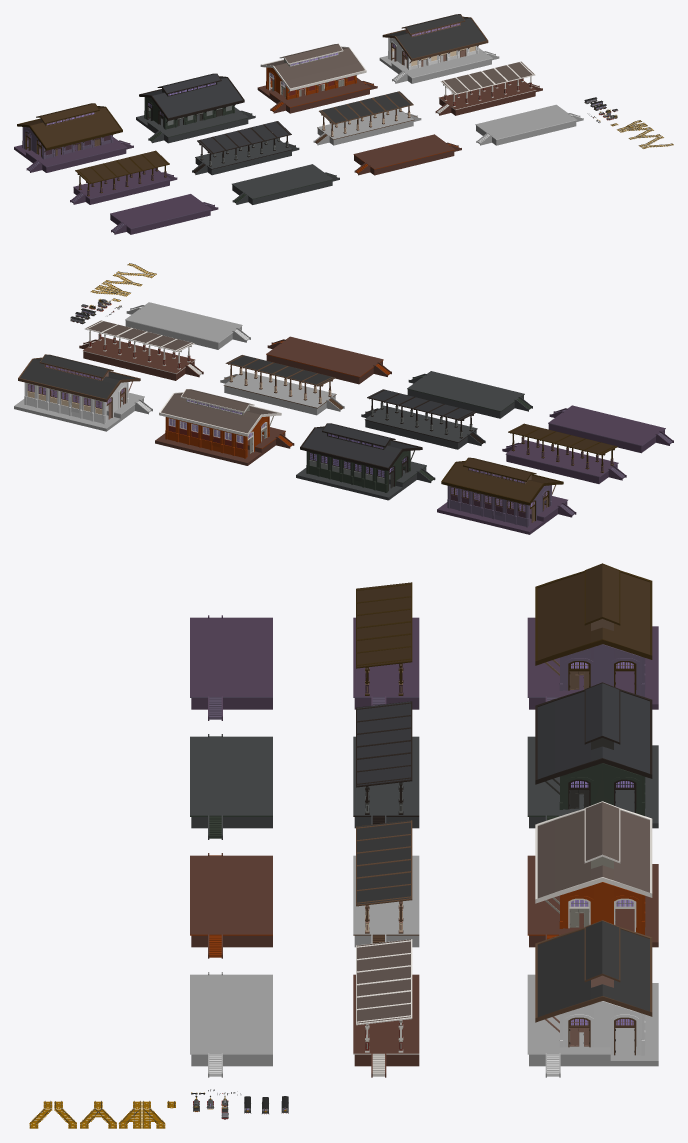
Rendered from steam-trains-and-stations-low-poly.glb.
3 renders of one model, top to bottom at view 1: azimuth 30°, elevation 25°; view 2: azimuth 150°, elevation 25°; view 3: azimuth 270°, elevation 25°, orthographic. The views are drawn at different scales.
Parts seen in each view (by area): view 1: RailwayStation_CS04, RailwayStation_CS03, RailwayStation_CS02, RailwayStation_CS01, RailwayPlatformCanopy_CS01, RailwayPlatformCanopy_CS04, RailwayPlatformCanopy_CS03, RailwayPlatformCanopy_CS02, RailwayPlatform_CS03, RailwayPlatform_CS02, RailwayPlatform_CS04, RailwayPlatform_CS01; view 2: RailwayStation_CS01, RailwayStation_CS02, RailwayStation_CS03, RailwayStation_CS04, RailwayPlatformCanopy_CS02, RailwayPlatformCanopy_CS03, RailwayPlatformCanopy_CS04, RailwayPlatformCanopy_CS01, RailwayPlatform_CS02, RailwayPlatform_CS03, RailwayPlatform_CS04, RailwayPlatform_CS01; view 3: RailwayStation_CS01, RailwayStation_CS02, RailwayStation_CS04, RailwayStation_CS03, RailwayPlatformCanopy_CS02, RailwayPlatform_CS01, RailwayPlatform_CS02, RailwayPlatform_CS03, RailwayPlatform_CS04, RailwayPlatformCanopy_CS04, RailwayPlatformCanopy_CS03, RailwayPlatformCanopy_CS01.
Part boxes in pixels (x1=…): RailwayStation_CS04: x1=14, y1=103, x2=133, y2=172; RailwayStation_CS03: x1=136, y1=73, x2=255, y2=143; RailwayStation_CS02: x1=257, y1=43, x2=377, y2=113; RailwayStation_CS01: x1=379, y1=14, x2=499, y2=83; RailwayPlatformCanopy_CS01: x1=313, y1=91, x2=421, y2=145; RailwayPlatformCanopy_CS04: x1=70, y1=150, x2=177, y2=204; RailwayPlatformCanopy_CS03: x1=192, y1=121, x2=299, y2=175; RailwayPlatformCanopy_CS02: x1=435, y1=61, x2=542, y2=115; RailwayPlatform_CS03: x1=232, y1=164, x2=339, y2=204; RailwayPlatform_CS02: x1=353, y1=134, x2=461, y2=175; RailwayPlatform_CS04: x1=110, y1=194, x2=218, y2=234; RailwayPlatform_CS01: x1=475, y1=104, x2=583, y2=145; RailwayStation_CS01: x1=14, y1=354, x2=152, y2=431; RailwayStation_CS02: x1=155, y1=389, x2=294, y2=465; RailwayStation_CS03: x1=296, y1=423, x2=435, y2=500; RailwayStation_CS04: x1=437, y1=457, x2=576, y2=534; RailwayPlatformCanopy_CS02: x1=79, y1=320, x2=203, y2=380; RailwayPlatformCanopy_CS03: x1=361, y1=389, x2=485, y2=449; RailwayPlatformCanopy_CS04: x1=502, y1=423, x2=626, y2=483; RailwayPlatformCanopy_CS01: x1=220, y1=355, x2=344, y2=415; RailwayPlatform_CS02: x1=266, y1=336, x2=391, y2=384; RailwayPlatform_CS03: x1=407, y1=371, x2=532, y2=418; RailwayPlatform_CS04: x1=548, y1=405, x2=673, y2=453; RailwayPlatform_CS01: x1=125, y1=302, x2=250, y2=349; RailwayStation_CS01: x1=527, y1=920, x2=658, y2=1077; RailwayStation_CS02: x1=527, y1=801, x2=658, y2=947; RailwayStation_CS04: x1=527, y1=563, x2=658, y2=709; RailwayStation_CS03: x1=527, y1=682, x2=658, y2=828; RailwayPlatformCanopy_CS02: x1=353, y1=939, x2=419, y2=1077; RailwayPlatform_CS01: x1=190, y1=972, x2=272, y2=1077; RailwayPlatform_CS02: x1=190, y1=853, x2=272, y2=958; RailwayPlatform_CS03: x1=190, y1=734, x2=272, y2=839; RailwayPlatform_CS04: x1=190, y1=615, x2=272, y2=720; RailwayPlatformCanopy_CS04: x1=353, y1=582, x2=419, y2=709; RailwayPlatformCanopy_CS03: x1=353, y1=701, x2=419, y2=828; RailwayPlatformCanopy_CS01: x1=353, y1=820, x2=419, y2=947.
Size of the model in its own units: 21132 by 1701 by 11178.
